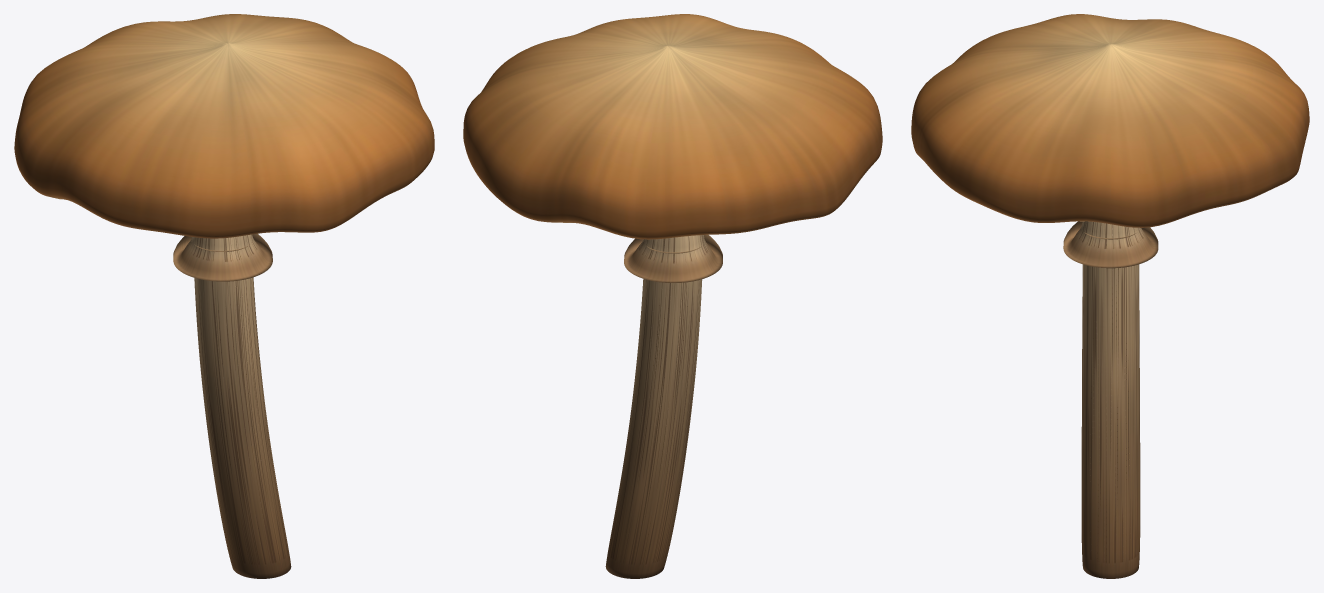
The model's file is kuehneromyces-mutabilis-drawn.glb.
The picture shows the model from 3 angles, left to right: view 1: azimuth 30°, elevation 25°; view 2: azimuth 150°, elevation 25°; view 3: azimuth 270°, elevation 25°; orthographic projection. The views are drawn at different scales.
Bounding box in the file's own units: 0.6174 × 0.875 × 0.6198.
Materials: 1 (1 with a texture image).
